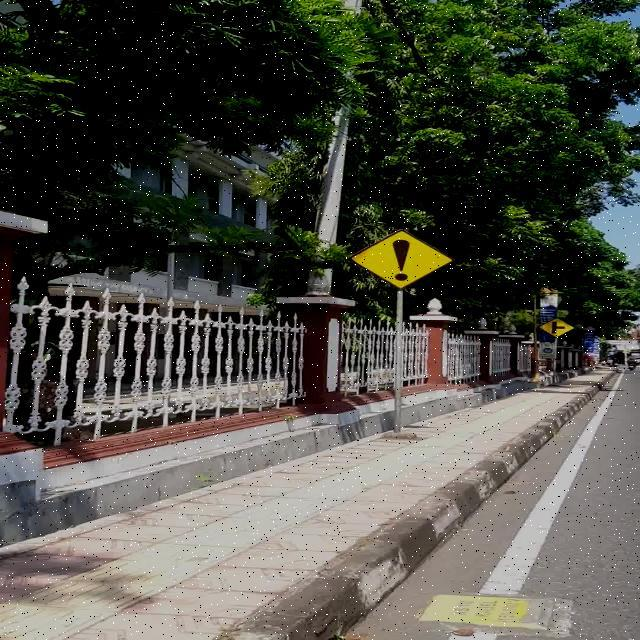Hati-Hati: (348, 229, 456, 289)
